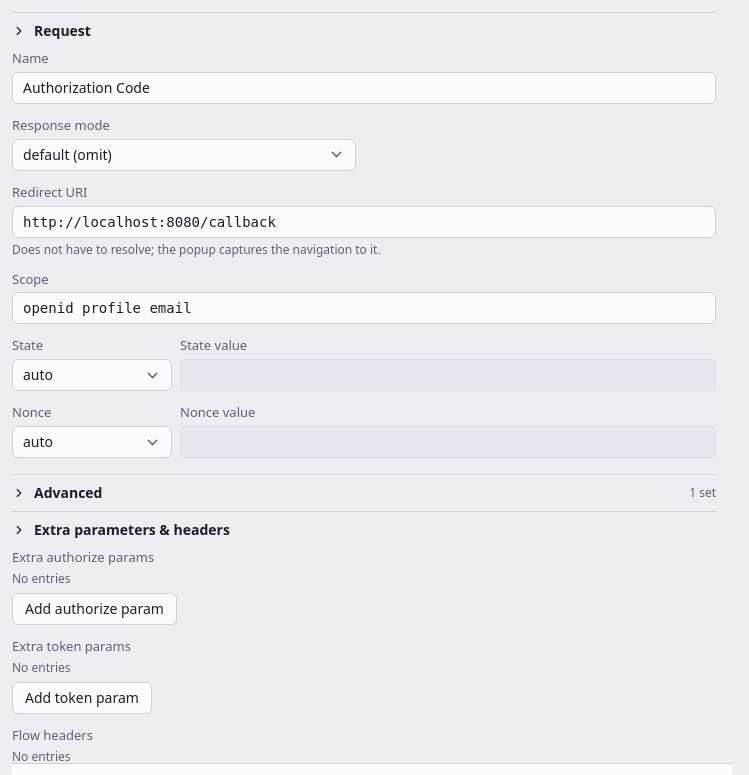
Test case: FlowForm › REQ-UI-014 Advanced holds the optional authorize params and persists being opened
The width and height of the screenshot is (749, 775).
expect the text "1 set" is shown: met, box x1=689 y1=485 x2=716 y2=501
Click the button "Advanced": [68, 493] box x1=12 y1=475 x2=681 y2=511
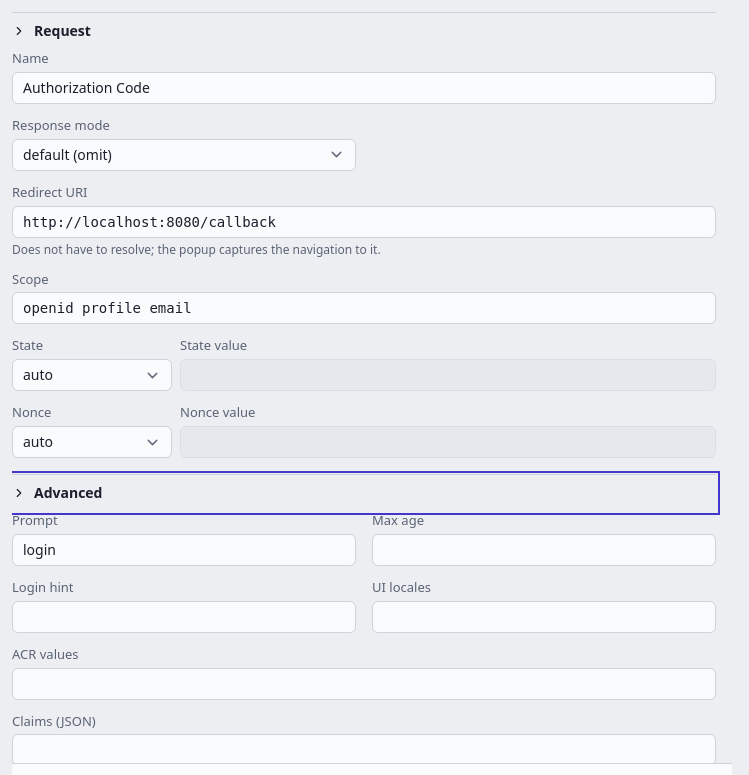
expect the field labelled "Prompt" holds "login": met, box x1=12 y1=534 x2=356 y2=566
